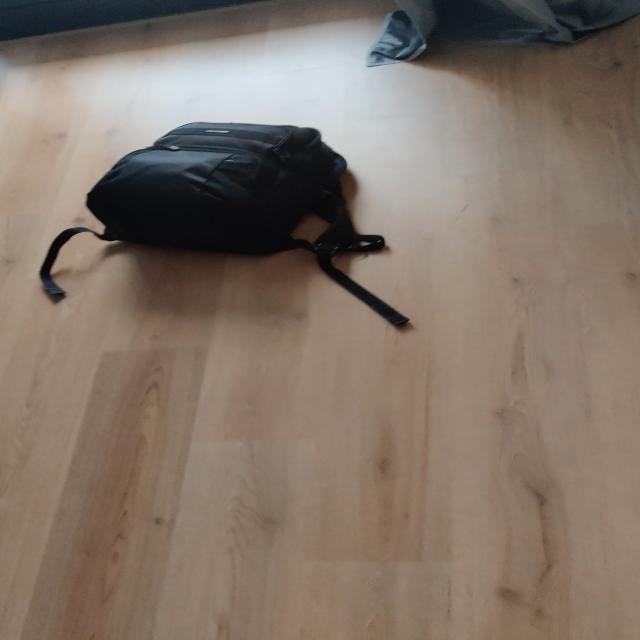backpack: (79, 114, 363, 260)
